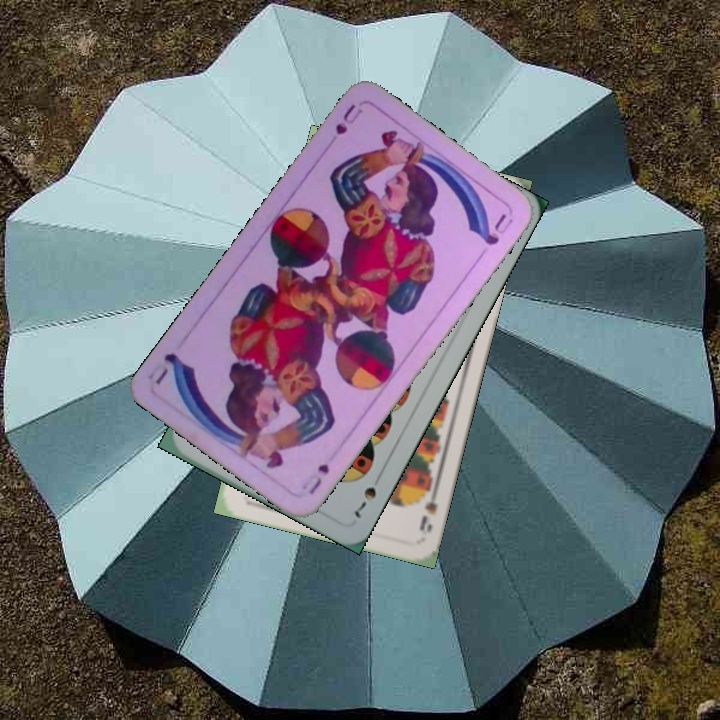S7: (350, 482, 379, 521)
S9: (415, 480, 441, 535)
SU: (331, 100, 366, 138), (304, 459, 332, 497)
